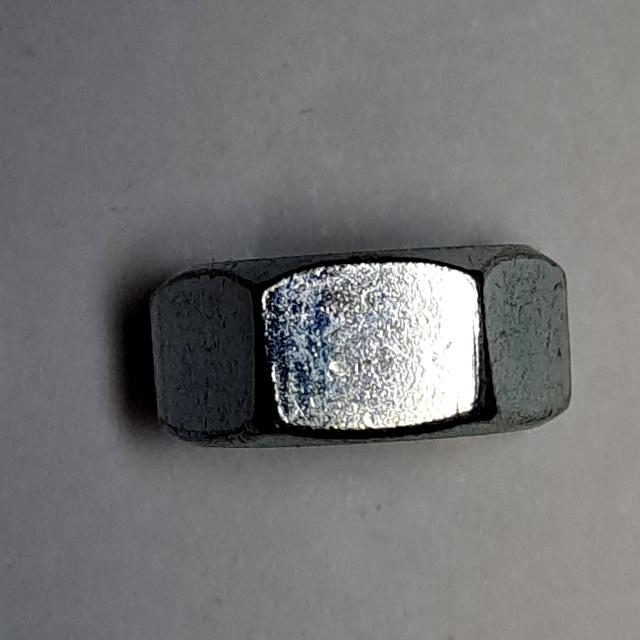Side_Excellent: (137, 226, 585, 475)
